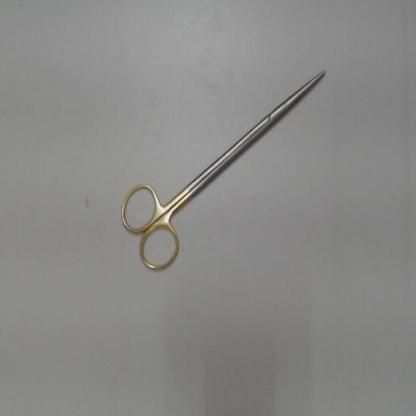7 Metzenbaum Scissors: (116, 65, 330, 279)
